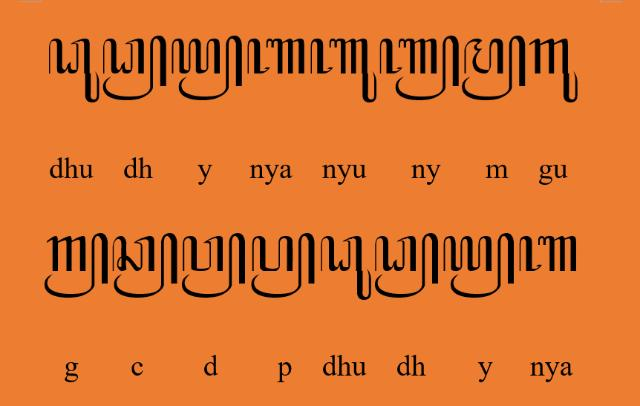-c: (112, 232, 178, 300)
-d: (182, 232, 246, 298)
-dh: (374, 233, 440, 298), (102, 35, 166, 101)
-g: (44, 232, 108, 298)
-m: (462, 35, 526, 101)
-ny: (378, 35, 459, 101)
-p: (250, 232, 316, 300)
-y: (443, 232, 515, 300), (172, 35, 242, 101)
dhu: (320, 235, 372, 301), (48, 38, 100, 102)
gu: (528, 39, 578, 104)
ny1: (246, 37, 306, 75), (520, 234, 578, 272)
nyu1: (309, 38, 377, 104)
